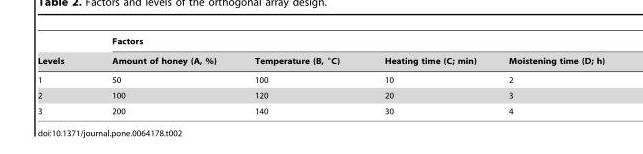table: (37, 36, 604, 115)
table column: (87, 36, 234, 115), (361, 36, 491, 115), (234, 36, 361, 115), (491, 36, 604, 115), (37, 36, 87, 115)
table column header: (37, 36, 604, 70)
table row: (37, 50, 604, 70), (37, 70, 604, 87), (37, 87, 604, 103), (37, 36, 604, 50), (37, 103, 604, 115)
table spanning cell: (87, 36, 604, 50), (37, 36, 87, 70)
